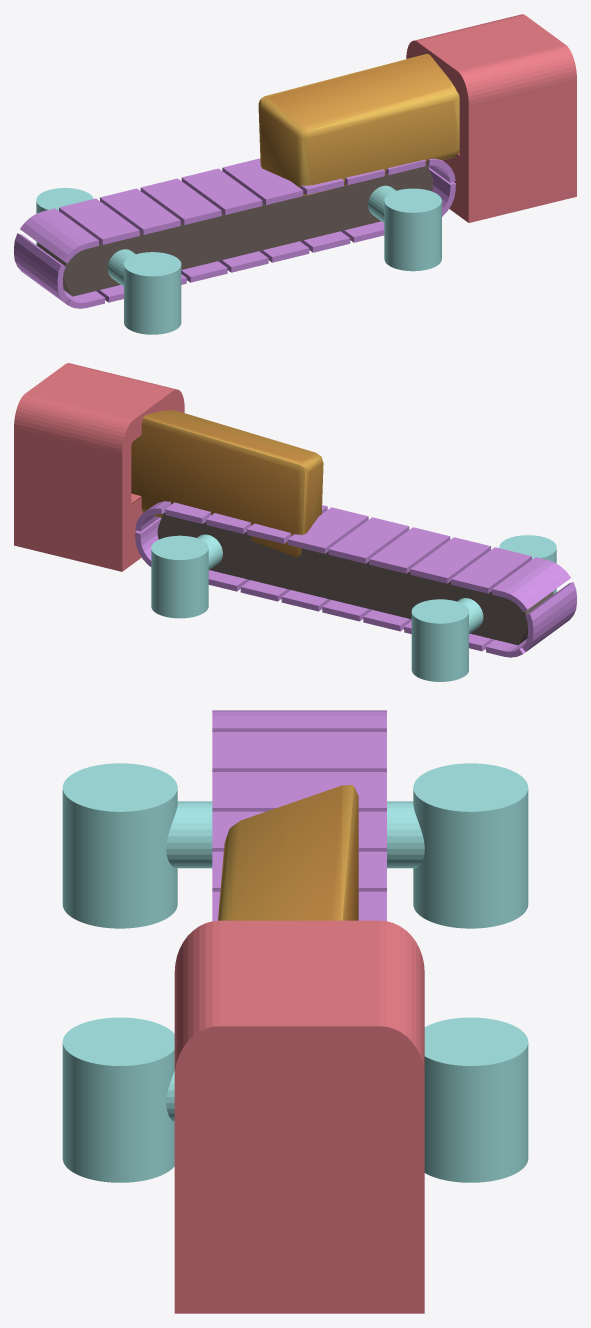
File: animated_conveyer_belt.glb
The picture shows the model from 3 angles, top to bottom: view 1: azimuth 30°, elevation 25°; view 2: azimuth 150°, elevation 25°; view 3: azimuth 270°, elevation 25°; orthographic projection. The views are drawn at different scales.
Parts seen in each view (by area): view 1: Cube.001, Plane.001, Gold_Bar, Cube, Cylinder.002, Cylinder.003, Cylinder.005, Cylinder.001, Cylinder; view 2: Cube.001, Plane.001, Gold_Bar, Cube, Cylinder.004, Cylinder.005, Cylinder.003, Cylinder.001, Cylinder; view 3: Cube.001, Plane.001, Cylinder.003, Cylinder.005, Cylinder.002, Cylinder.004, Gold_Bar, Cylinder.
Part boxes in pixels (x1,y1,x2,y2): Cube.001: [406, 14, 576, 222]; Plane.001: [14, 158, 455, 308]; Gold_Bar: [258, 54, 459, 195]; Cube: [37, 164, 433, 296]; Cylinder.002: [384, 188, 441, 271]; Cylinder.003: [124, 252, 181, 334]; Cylinder.005: [36, 188, 93, 245]; Cylinder.001: [368, 185, 396, 222]; Cylinder: [107, 249, 135, 286]; Cube.001: [14, 363, 184, 571]; Plane.001: [135, 501, 576, 657]; Gold_Bar: [131, 410, 323, 557]; Cube: [157, 512, 553, 645]; Cylinder.004: [151, 535, 208, 618]; Cylinder.005: [411, 599, 468, 681]; Cylinder.003: [499, 535, 556, 593]; Cylinder.001: [197, 534, 222, 570]; Cylinder: [457, 598, 483, 633]; Cube.001: [174, 920, 424, 1313]; Plane.001: [212, 710, 386, 921]; Cylinder.003: [62, 763, 177, 928]; Cylinder.005: [413, 763, 528, 928]; Cylinder.002: [62, 1017, 174, 1182]; Cylinder.004: [424, 1017, 528, 1182]; Gold_Bar: [218, 785, 358, 920]; Cylinder: [166, 801, 424, 868].
Bounding box in the file's own units: 9.42 × 2.7 × 3.73.
Materials: 5 (1 with a texture image).
